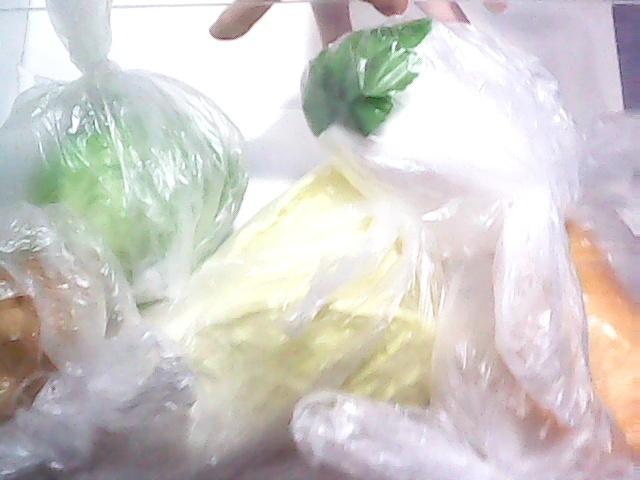cabbage: (12, 65, 250, 306)
mango: (480, 210, 640, 462)
napa cabbage: (39, 124, 434, 480)
potato: (0, 256, 110, 428)
radish: (296, 21, 576, 250)
